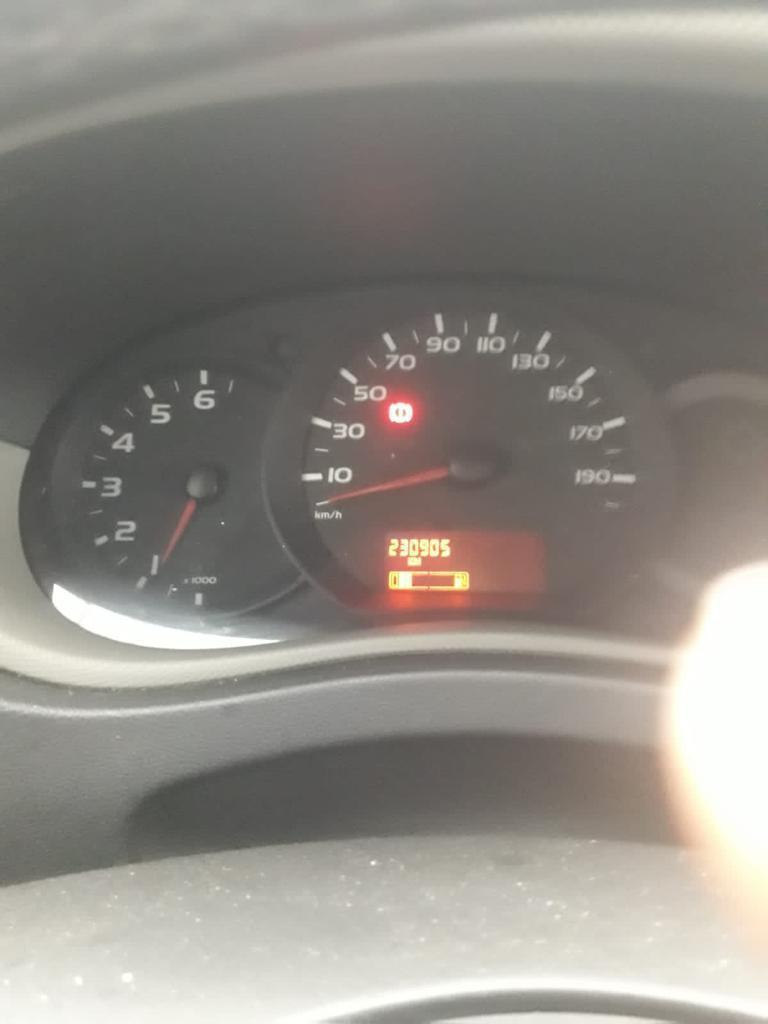0: (429, 537, 440, 557), (408, 537, 419, 557)
2: (387, 537, 398, 557)
3: (398, 537, 408, 557)
5: (440, 537, 452, 557)
9: (419, 538, 428, 557)
X: (414, 557, 421, 566), (407, 557, 414, 566)
odometer: (376, 527, 550, 597)
